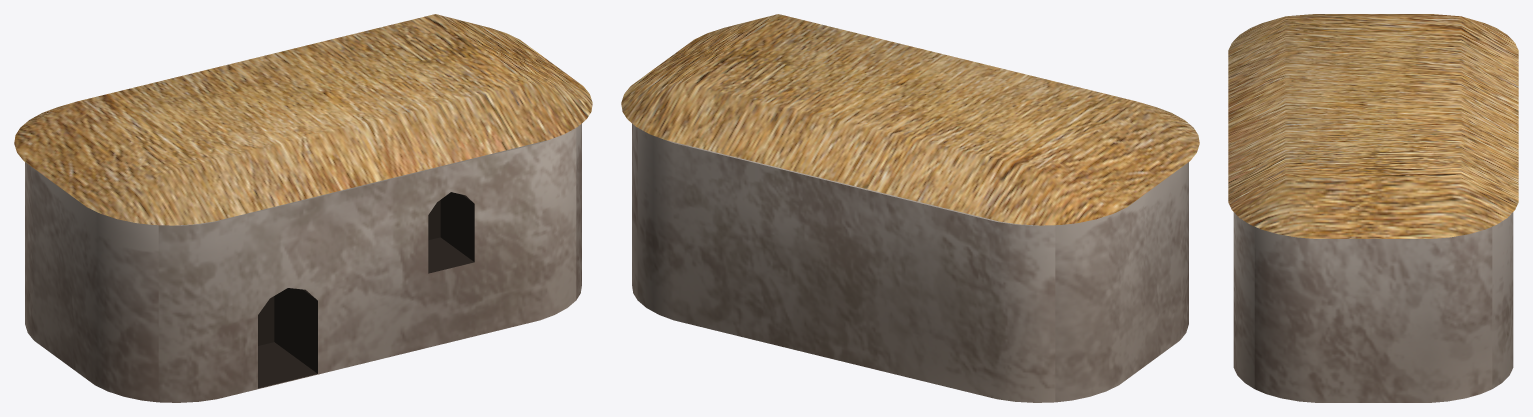
Rendered from house2.FBX.
The picture shows the model from 3 angles, left to right: view 1: azimuth 30°, elevation 25°; view 2: azimuth 150°, elevation 25°; view 3: azimuth 270°, elevation 25°; orthographic projection. The views are drawn at different scales.
Visible parts, largest first — view 1: house_02; view 2: house_02; view 3: house_02.
Boxes of the visible parts, x1,y1,x2,y2 form: house_02: (14, 14, 592, 402); house_02: (621, 14, 1199, 402); house_02: (1228, 14, 1518, 402).
Bounding box in the file's own units: 57.13 × 23.35 × 31.16.
1 material, 1 textured.
